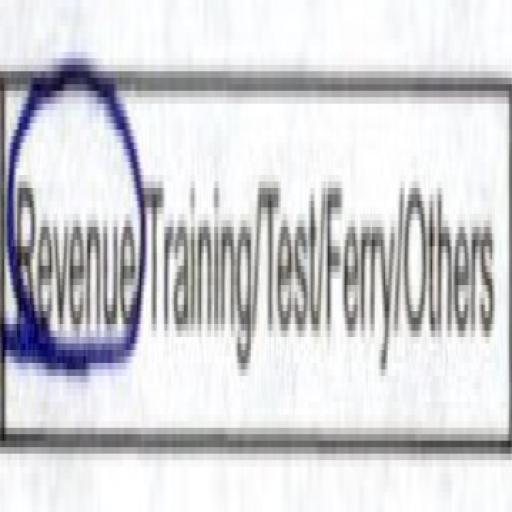check: (0, 18, 146, 436)
